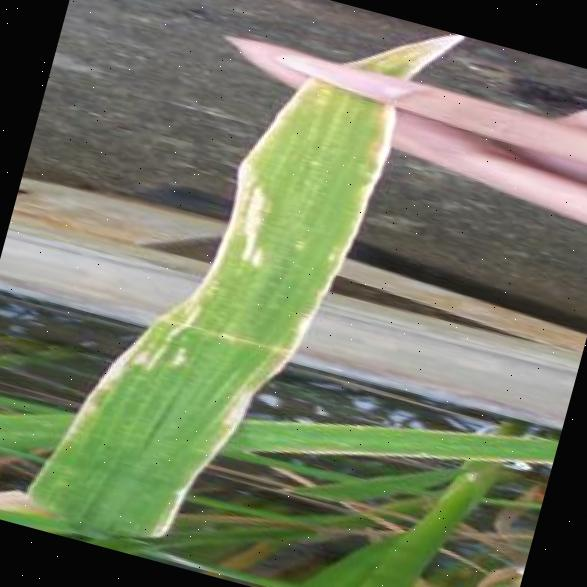Bacteria_Leaf_Blight: (175, 61, 395, 394)
